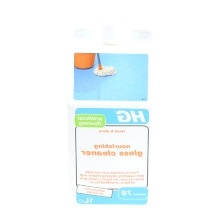cleaning_solution: (60, 6, 164, 218)
